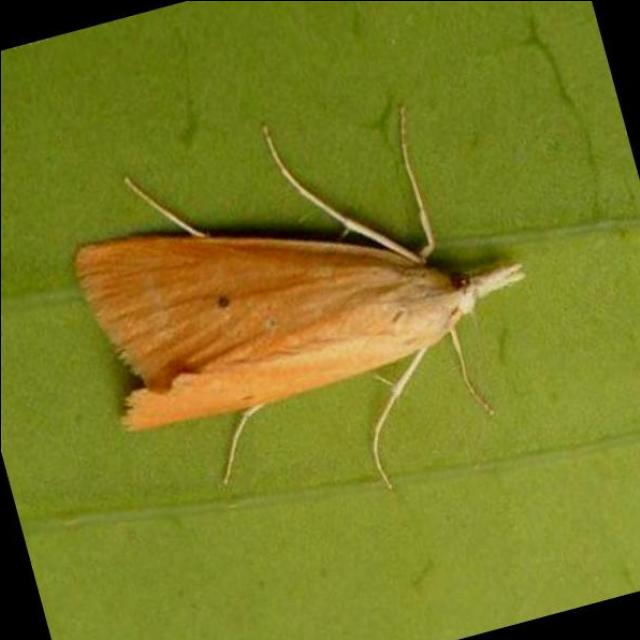stem borer: (74, 129, 523, 486)
